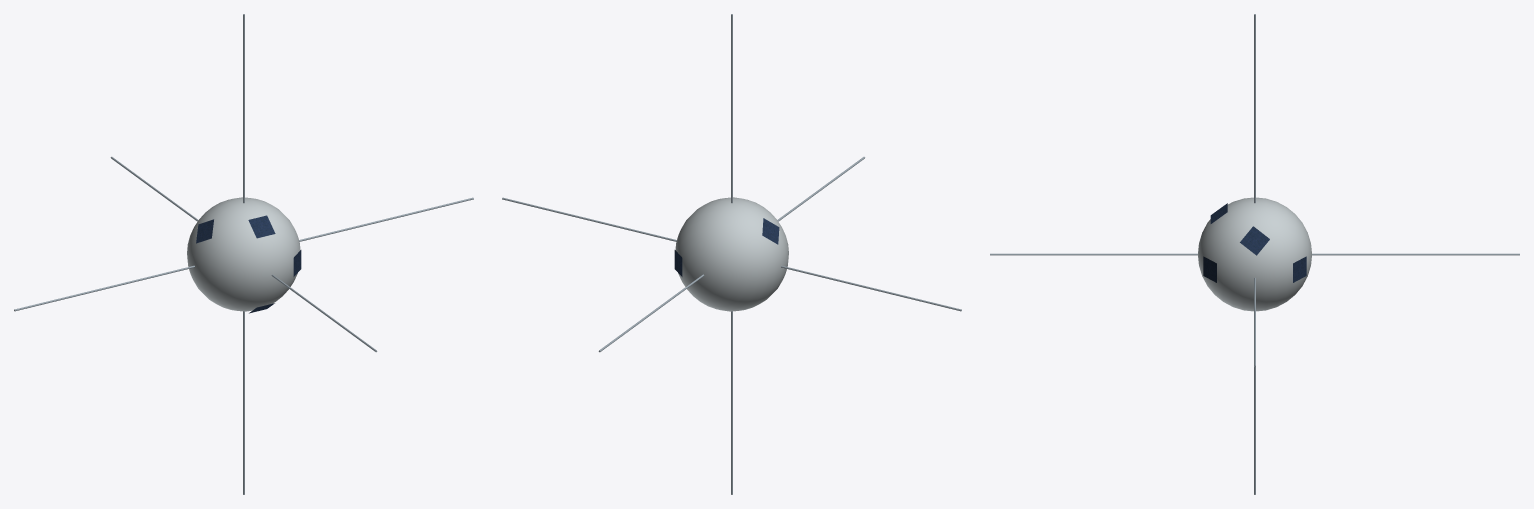
The model's file is ref-nrl-6-5.glb.
3 renders of one model, left to right at view 1: azimuth 30°, elevation 25°; view 2: azimuth 150°, elevation 25°; view 3: azimuth 270°, elevation 25°, orthographic.
Visible parts, largest first — view 1: Aluminum sphere; view 2: Aluminum sphere; view 3: Aluminum sphere, Whip antenna (×2).
Boxes of the visible parts, x1,y1,x2,y2 form: Aluminum sphere: (187,197,300,311); Aluminum sphere: (675,197,788,311); Aluminum sphere: (1198,197,1311,311); Whip antenna (×2): (990,253,1519,255).
Size of the model in its own units: 0.765 by 0.765 by 0.765.
3 materials, 1 textured.
